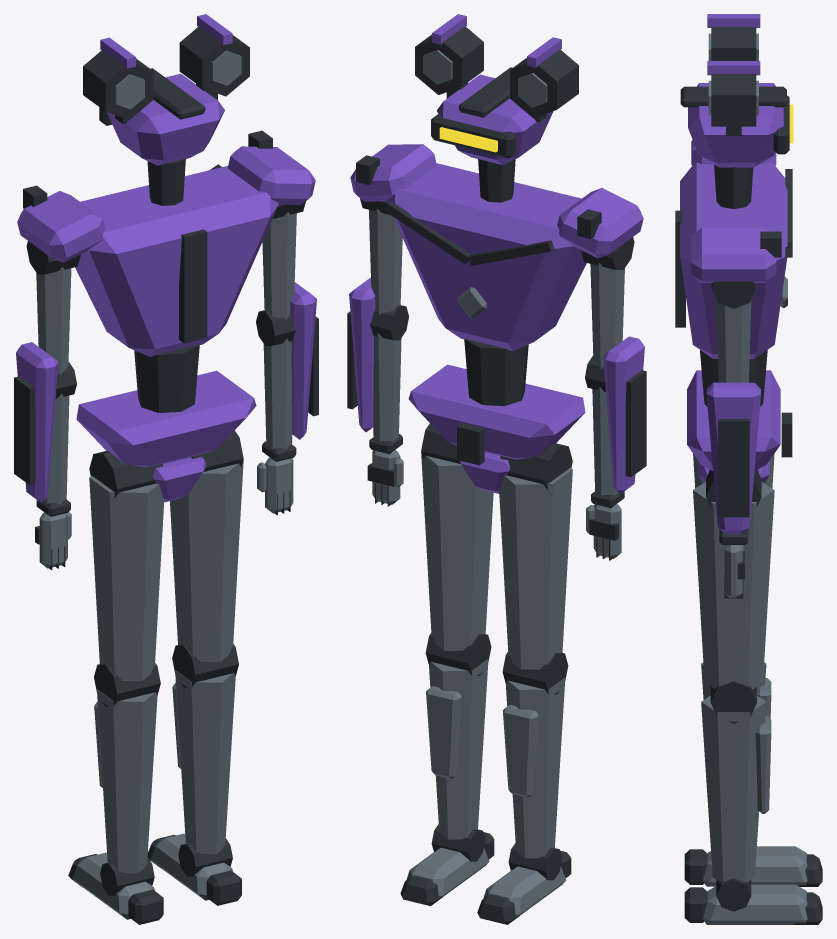
The model's file is Robot_Purple.fbx.
3 views of the same model, side by side, from view 1: azimuth 30°, elevation 25°; view 2: azimuth 150°, elevation 25°; view 3: azimuth 270°, elevation 25° (orthographic).
Visible parts, largest first — view 1: Chest, Head, Thigh.L, Thigh.R, Hips, Shin.L, Shin.R, Forearm.L, Forearm.R, Foot.L, Foot.R, UpperArm.L (+3 smaller); view 2: Chest, Head, Thigh.L, Thigh.R, Hips, Shin.L, Shin.R, Forearm.L, Forearm.R, Foot.L, Foot.R, UpperArm.L (+3 smaller); view 3: Chest, Head, Thigh.R, Shin.R, Forearm.R, Foot.R, Hips, UpperArm.R, Foot.L, Hand.R, Shin.L, Thigh.L.
Part boxes in pixels (x1,y1,x2,y2): Chest: [17, 130, 315, 412]; Head: [83, 14, 249, 205]; Thigh.L: [89, 451, 164, 681]; Thigh.R: [170, 430, 243, 662]; Hips: [76, 370, 256, 502]; Shin.L: [94, 663, 160, 873]; Shin.R: [172, 644, 238, 854]; Forearm.L: [14, 342, 76, 516]; Forearm.R: [256, 282, 318, 461]; Foot.L: [68, 852, 163, 924]; Foot.R: [147, 833, 241, 905]; UpperArm.L: [26, 241, 80, 374]; Chest: [350, 144, 643, 406]; Head: [415, 14, 578, 202]; Thigh.L: [499, 443, 572, 669]; Thigh.R: [421, 423, 493, 650]; Hips: [408, 364, 585, 493]; Shin.L: [502, 651, 568, 858]; Shin.R: [425, 633, 491, 839]; Forearm.L: [585, 336, 646, 508]; Forearm.R: [347, 277, 408, 453]; Foot.L: [477, 843, 571, 924]; Foot.R: [400, 824, 494, 906]; UpperArm.L: [581, 237, 634, 368]; Chest: [675, 140, 792, 406]; Head: [680, 14, 793, 208]; Thigh.R: [693, 469, 774, 689]; Shin.R: [701, 681, 771, 882]; Forearm.R: [706, 382, 760, 544]; Foot.R: [684, 878, 822, 924]; Hips: [687, 370, 792, 483]; UpperArm.R: [711, 281, 755, 382]; Foot.L: [684, 846, 822, 886]; Hand.R: [724, 545, 744, 599]; Shin.L: [701, 662, 771, 718]; Thigh.L: [693, 453, 774, 488].
Bounding box in the file's own units: 0.628 × 0.2773 × 1.79.
